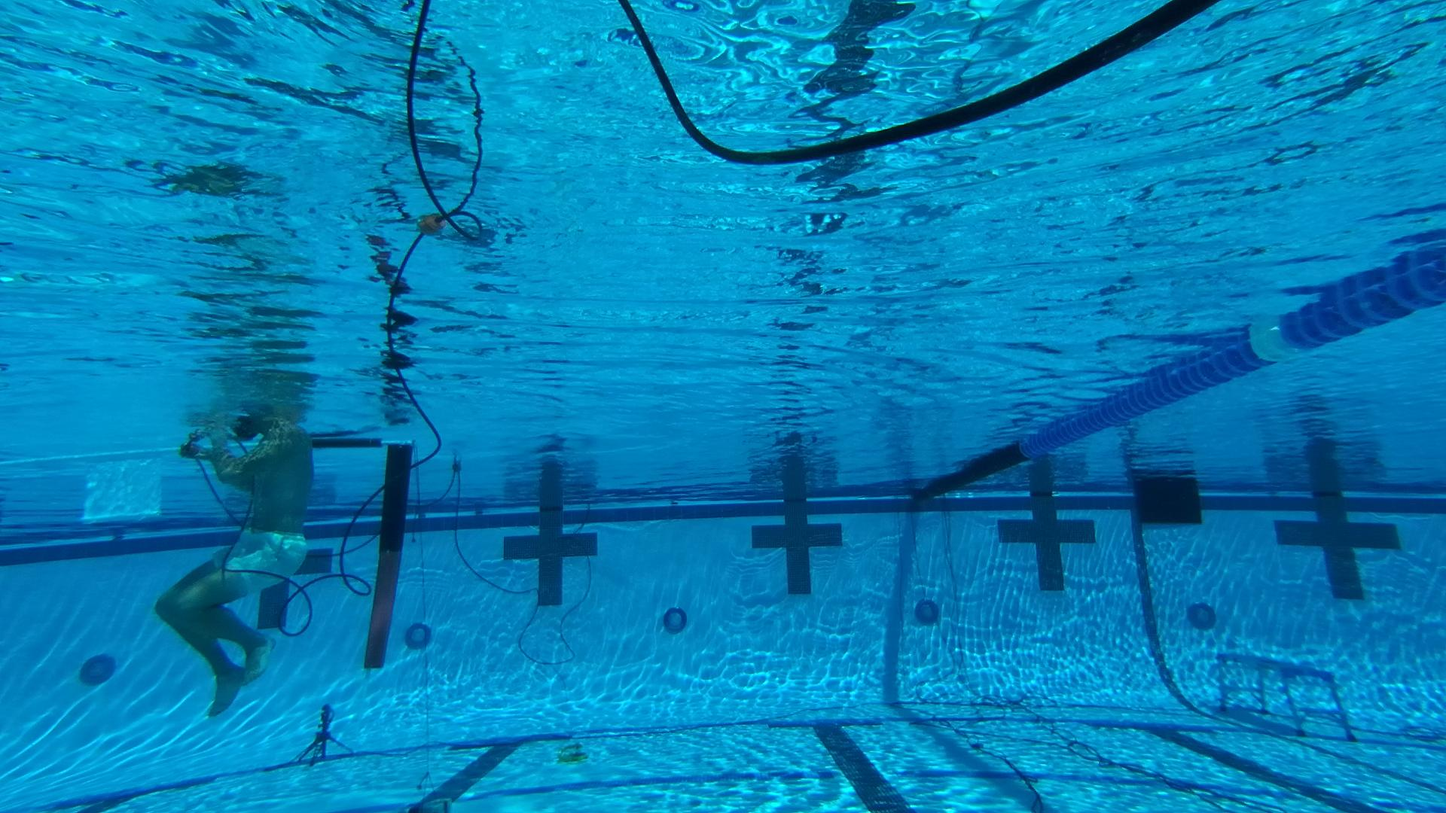path: (1210, 643, 1367, 739)
